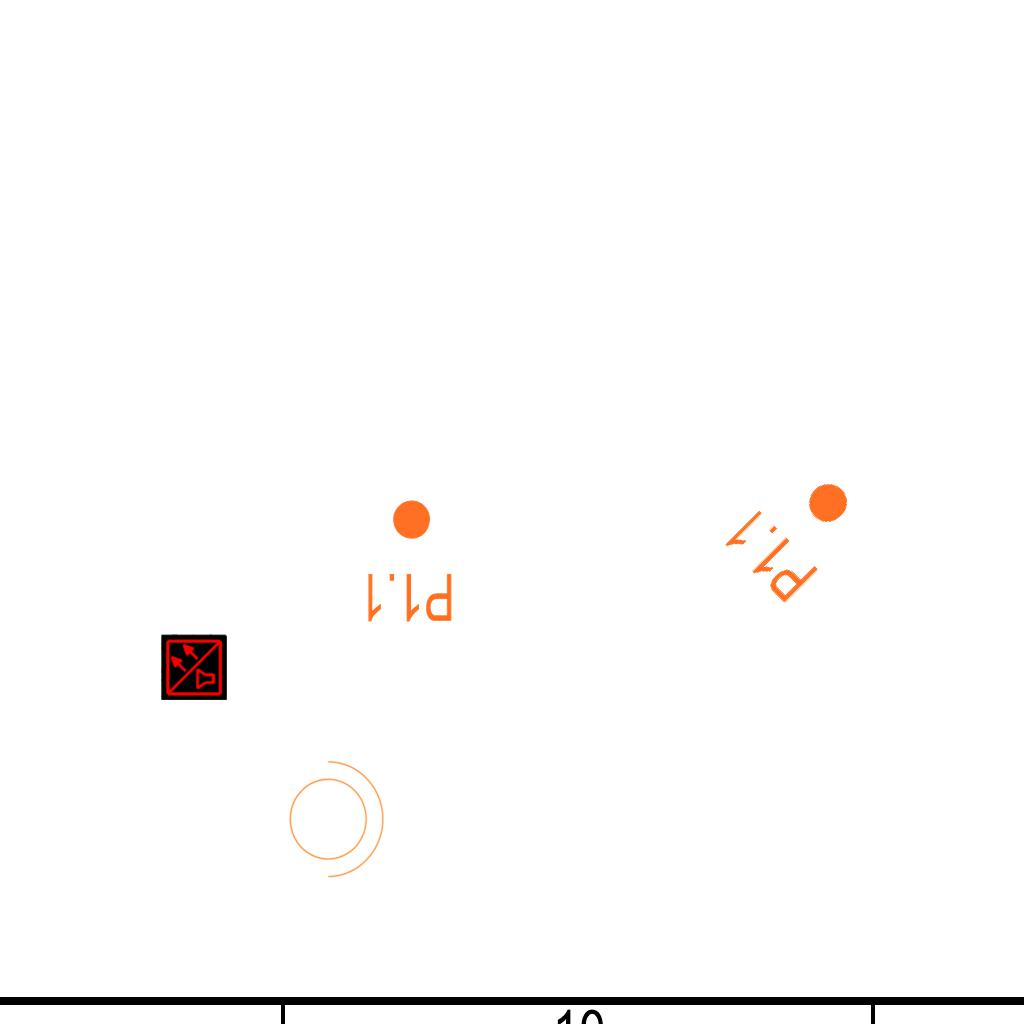Downlight_LED_Einbauleuchten_Flur_2: (718, 451, 875, 609), (362, 497, 455, 625)
OKW_Multisensormelder_(Kombination_optischer_Rauch-Kahlenmonoxid_Waerme-Melder): (161, 634, 227, 700)
Scheinwerfer_fuer_Alarmbeleuchtung: (277, 750, 389, 882)
